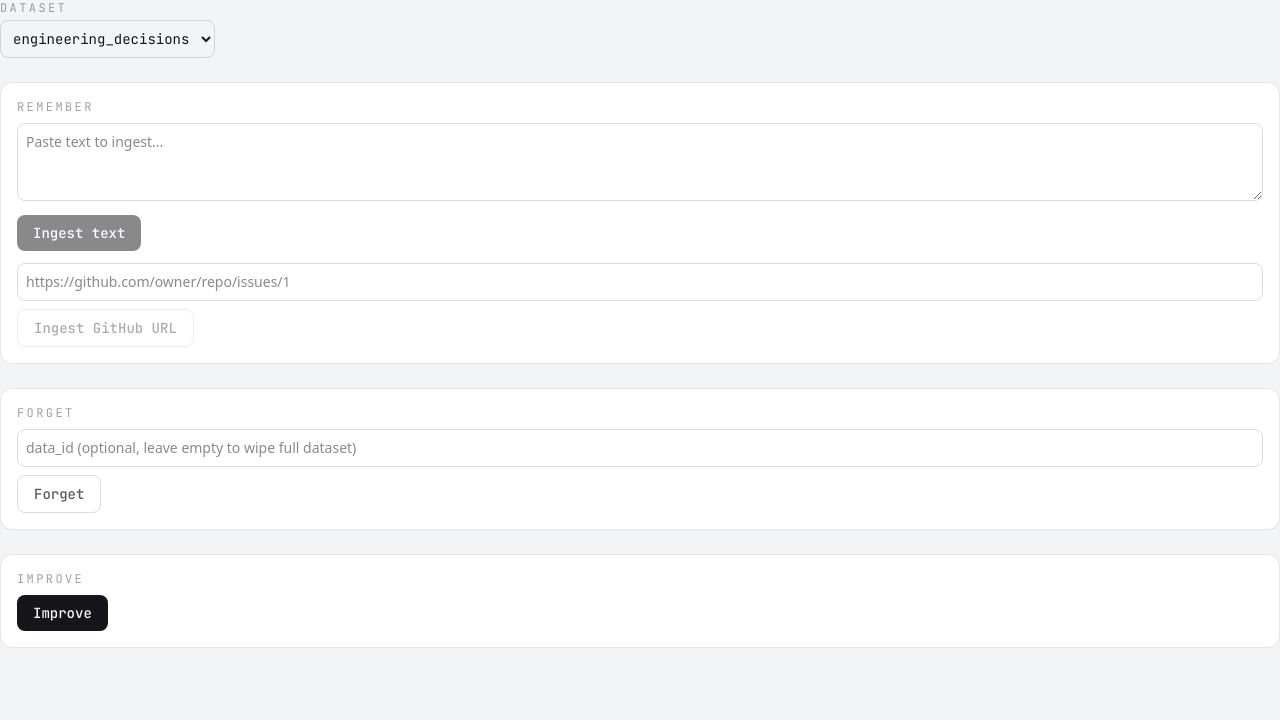
Test: LifecyclePage › forget shows a count delta on success
Click the button "Forget" at (59, 494), box left=17, top=475, right=101, bottom=513
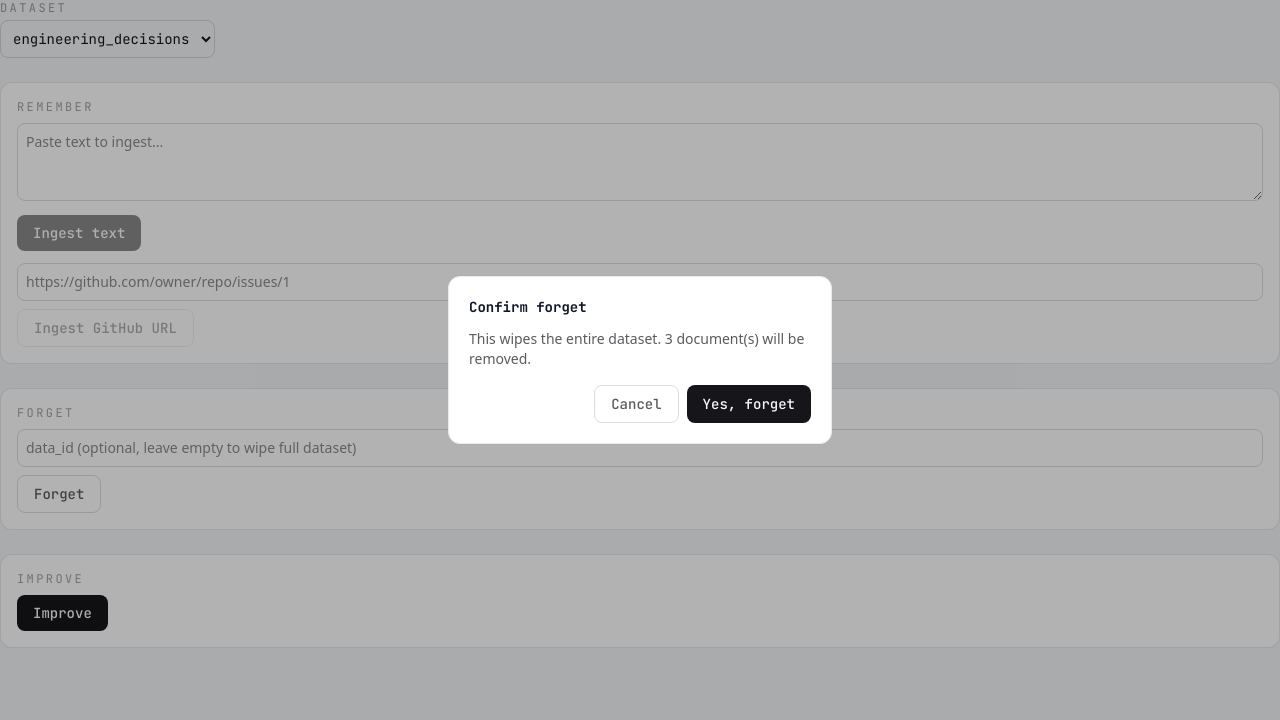
Check: the dialog is shown, box left=448, top=276, right=832, bottom=444
Click the button "Yes, forget" at (749, 404), box left=687, top=385, right=811, bottom=423
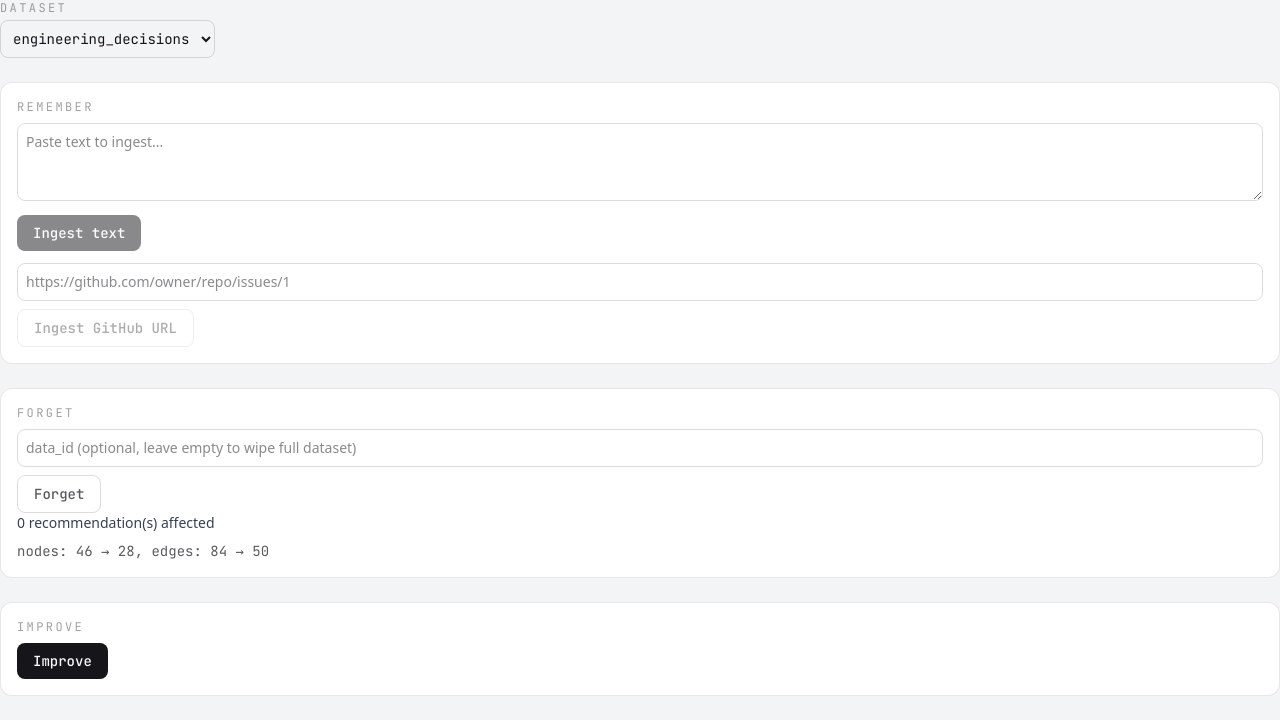
Check: the text "nodes: 46 → 28, edges: 84 → 50" is shown, box left=17, top=542, right=269, bottom=560
